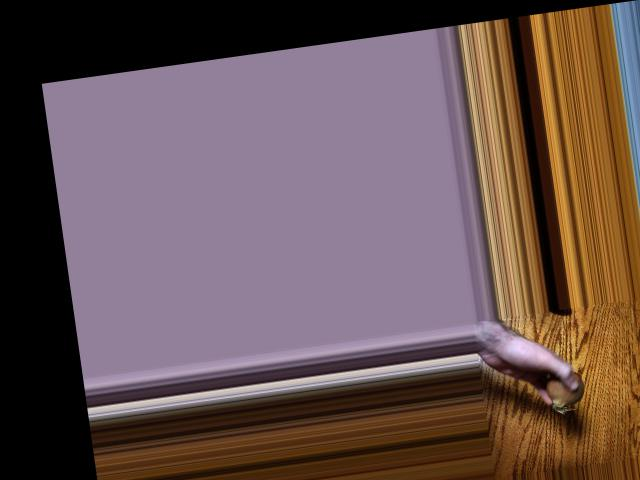onion: (550, 371, 584, 404)
